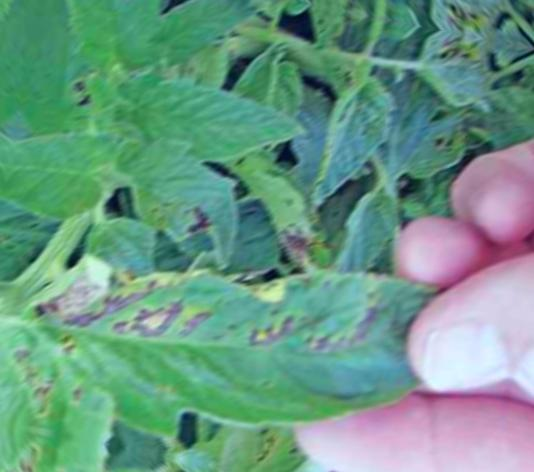Tomato Early blight leaf: (0, 204, 429, 472)
Tomato leaf: (133, 76, 306, 169), (1, 118, 128, 228), (138, 0, 255, 81)
